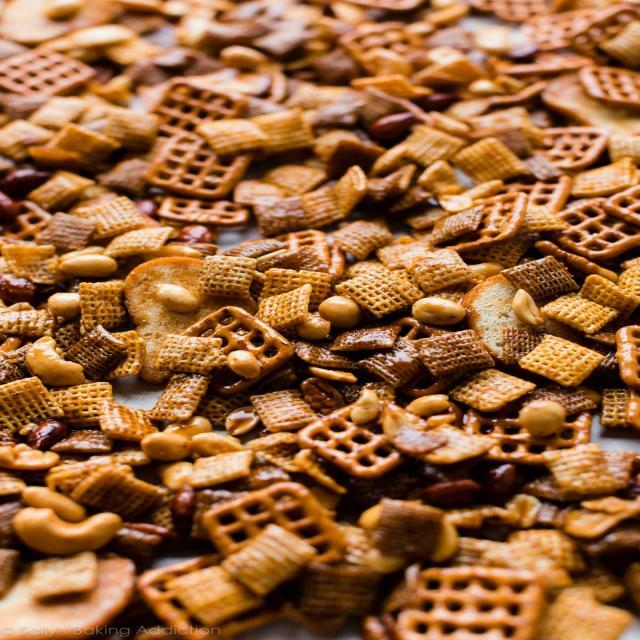Salatini: (11, 8, 632, 623)
